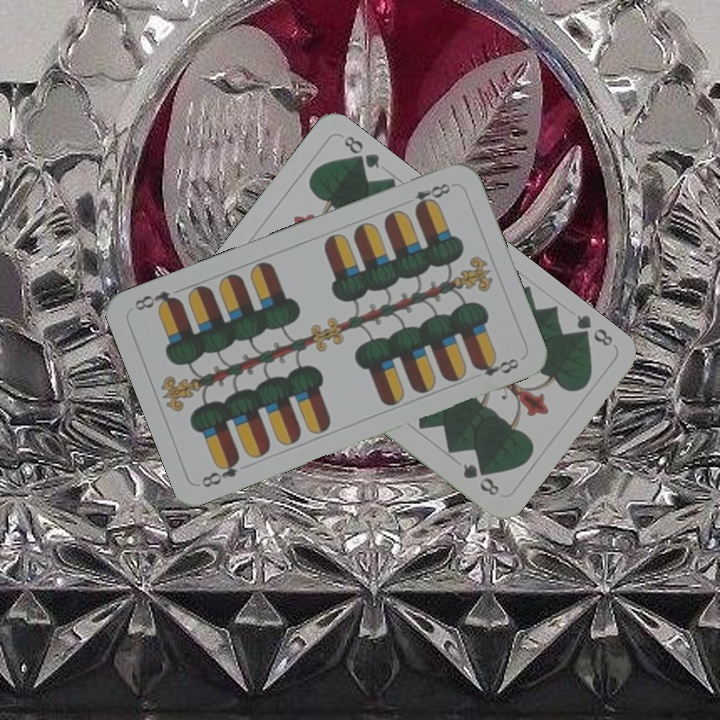E8: (197, 452, 243, 490), (410, 179, 456, 213)
G8: (569, 310, 616, 349)
